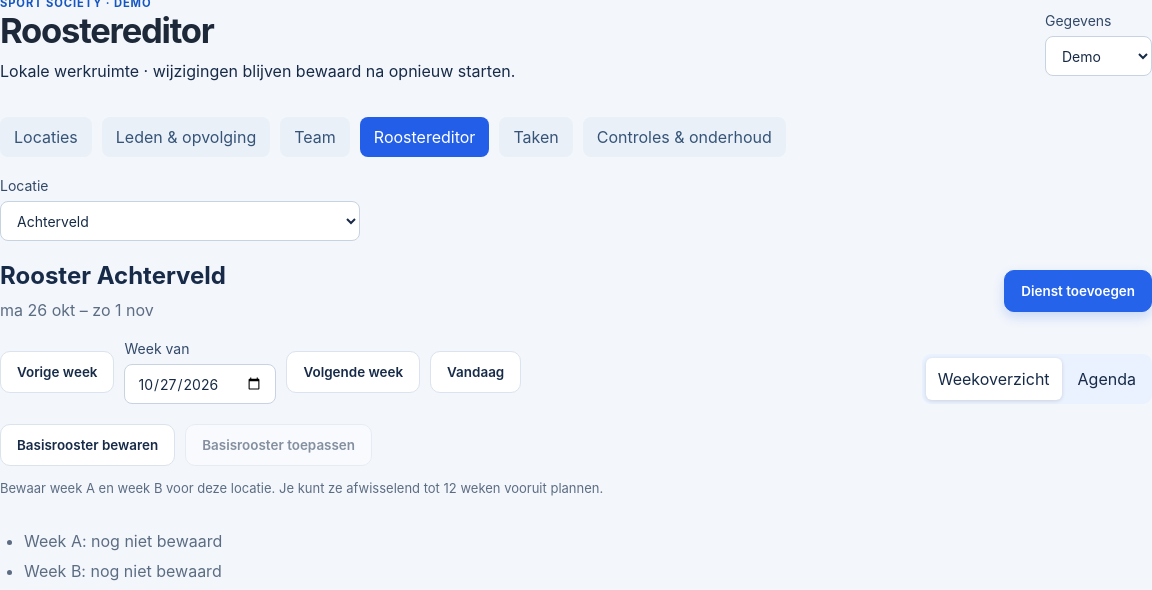
it: behoudt bij een serverconflict de ingevulde tijden om die te kunnen aanpassen
In the date field labelled "Week van": (200, 384) left=124, top=364, right=276, bottom=404, type "2026-11-02"
(page scrolled)
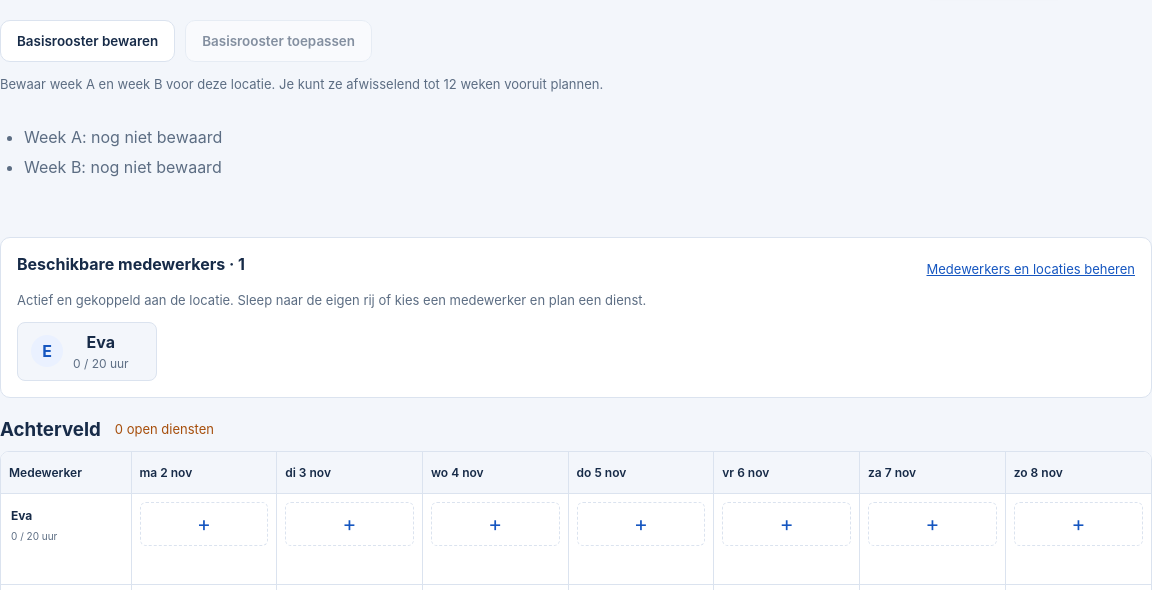
Click the button with aria-label "Eva selecteren voor een dienst": (87, 351) left=17, top=322, right=157, bottom=381
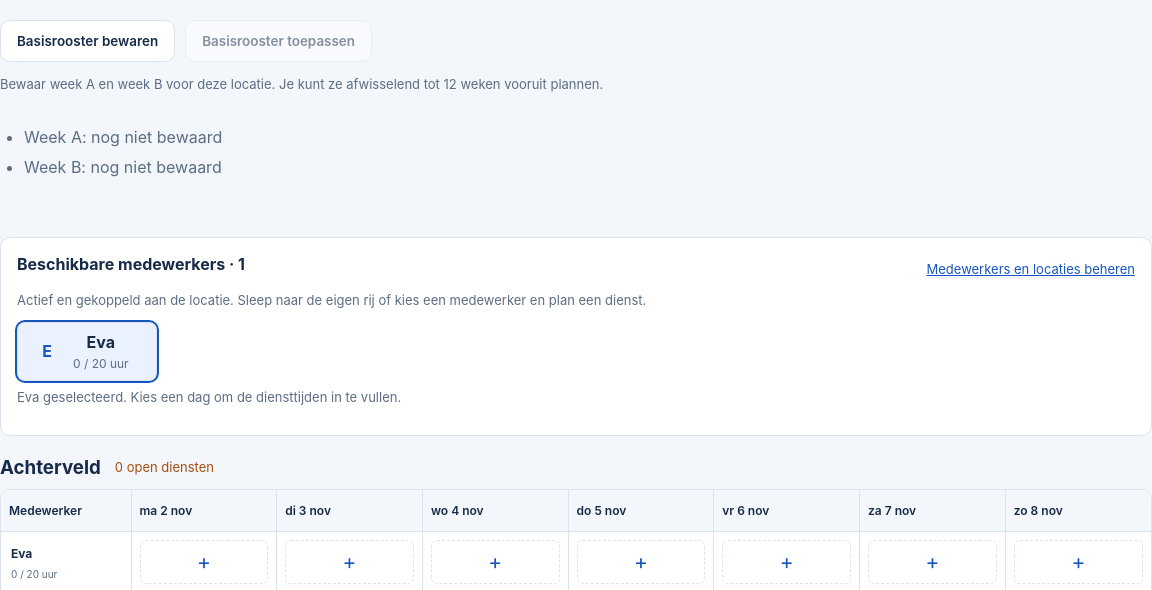
Click the button named "Dienst plannen voor Achterveld op 2026-11-02 met Eva": (204, 562) left=140, top=540, right=268, bottom=584
(page scrolled)
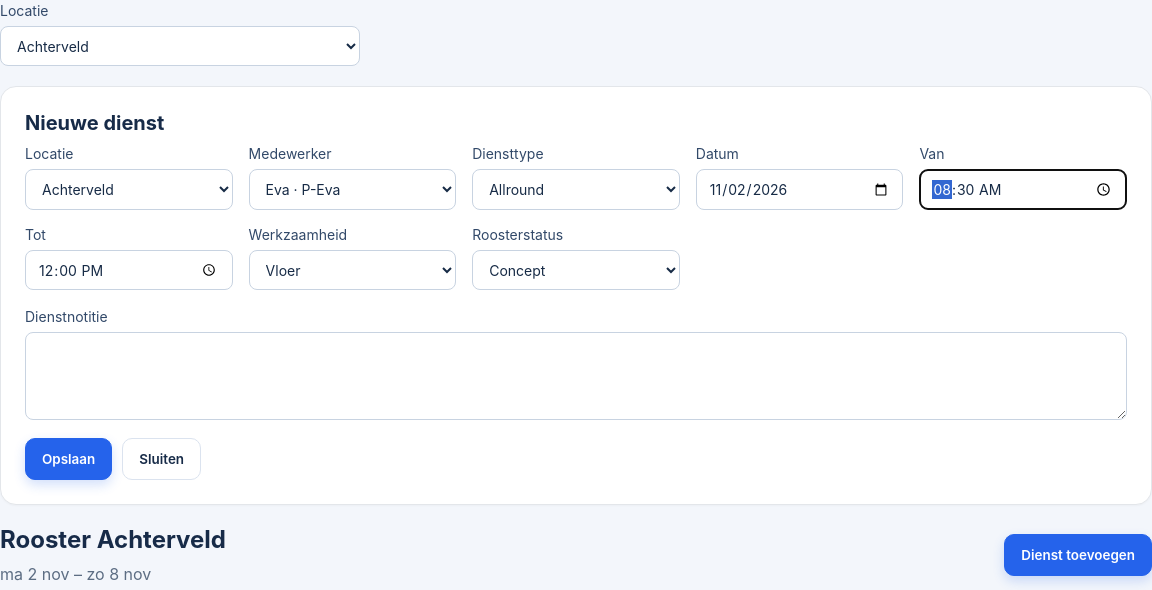
Replace the text in the time field labelled "Van" with "10:15": (1023, 189) left=919, top=169, right=1127, bottom=210
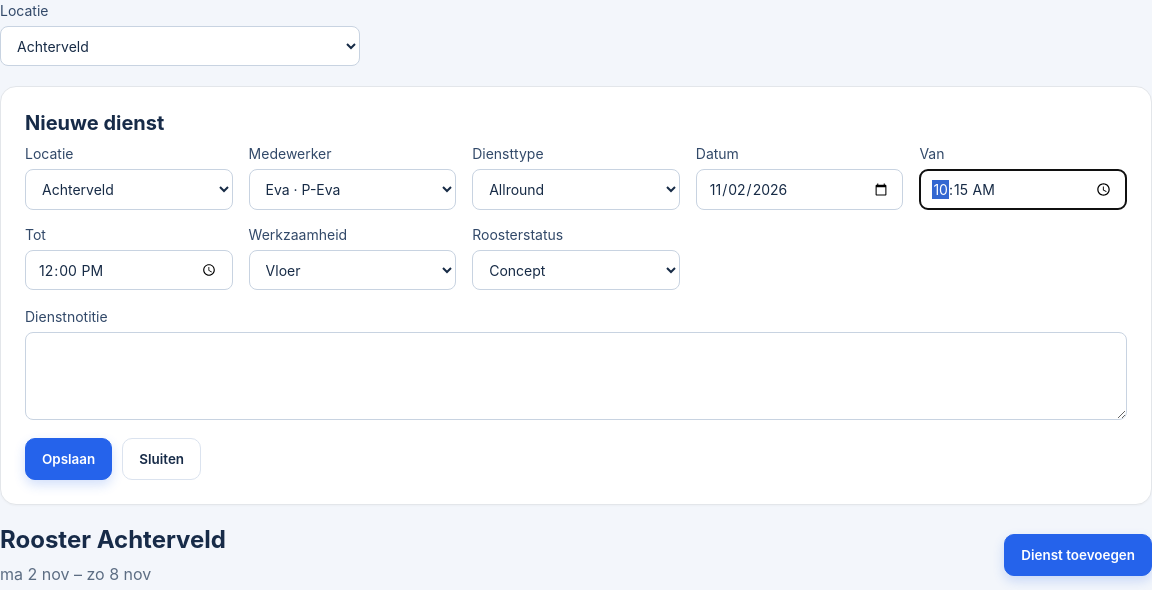
Click the button "Opslaan": (69, 460) left=25, top=438, right=112, bottom=480
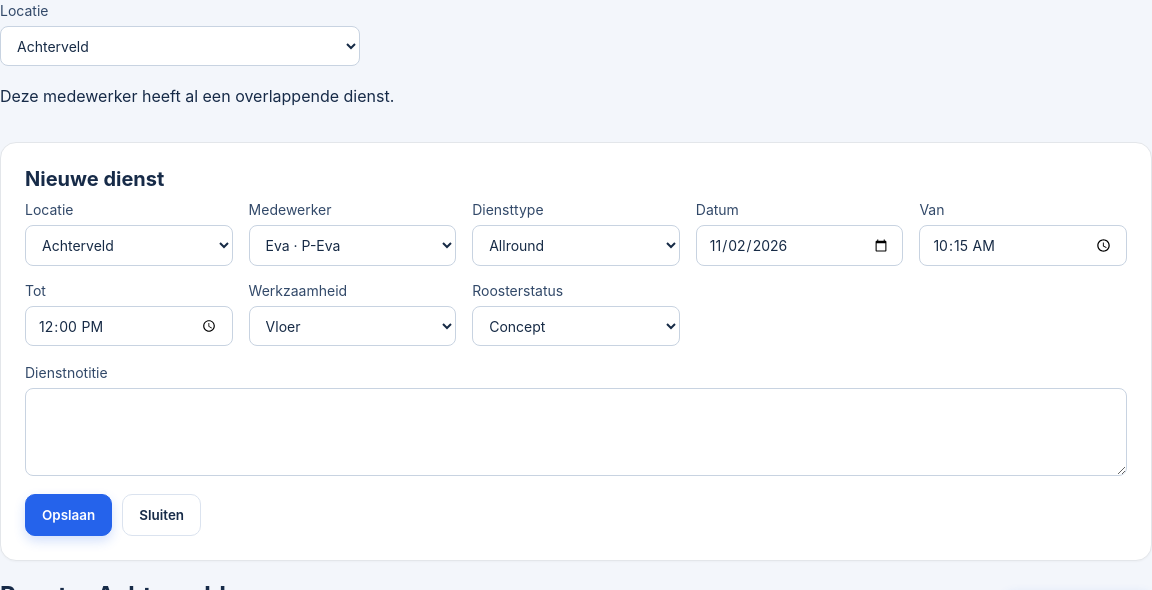
expect the message shows "overlappende dienst": met, box left=0, top=86, right=394, bottom=106
